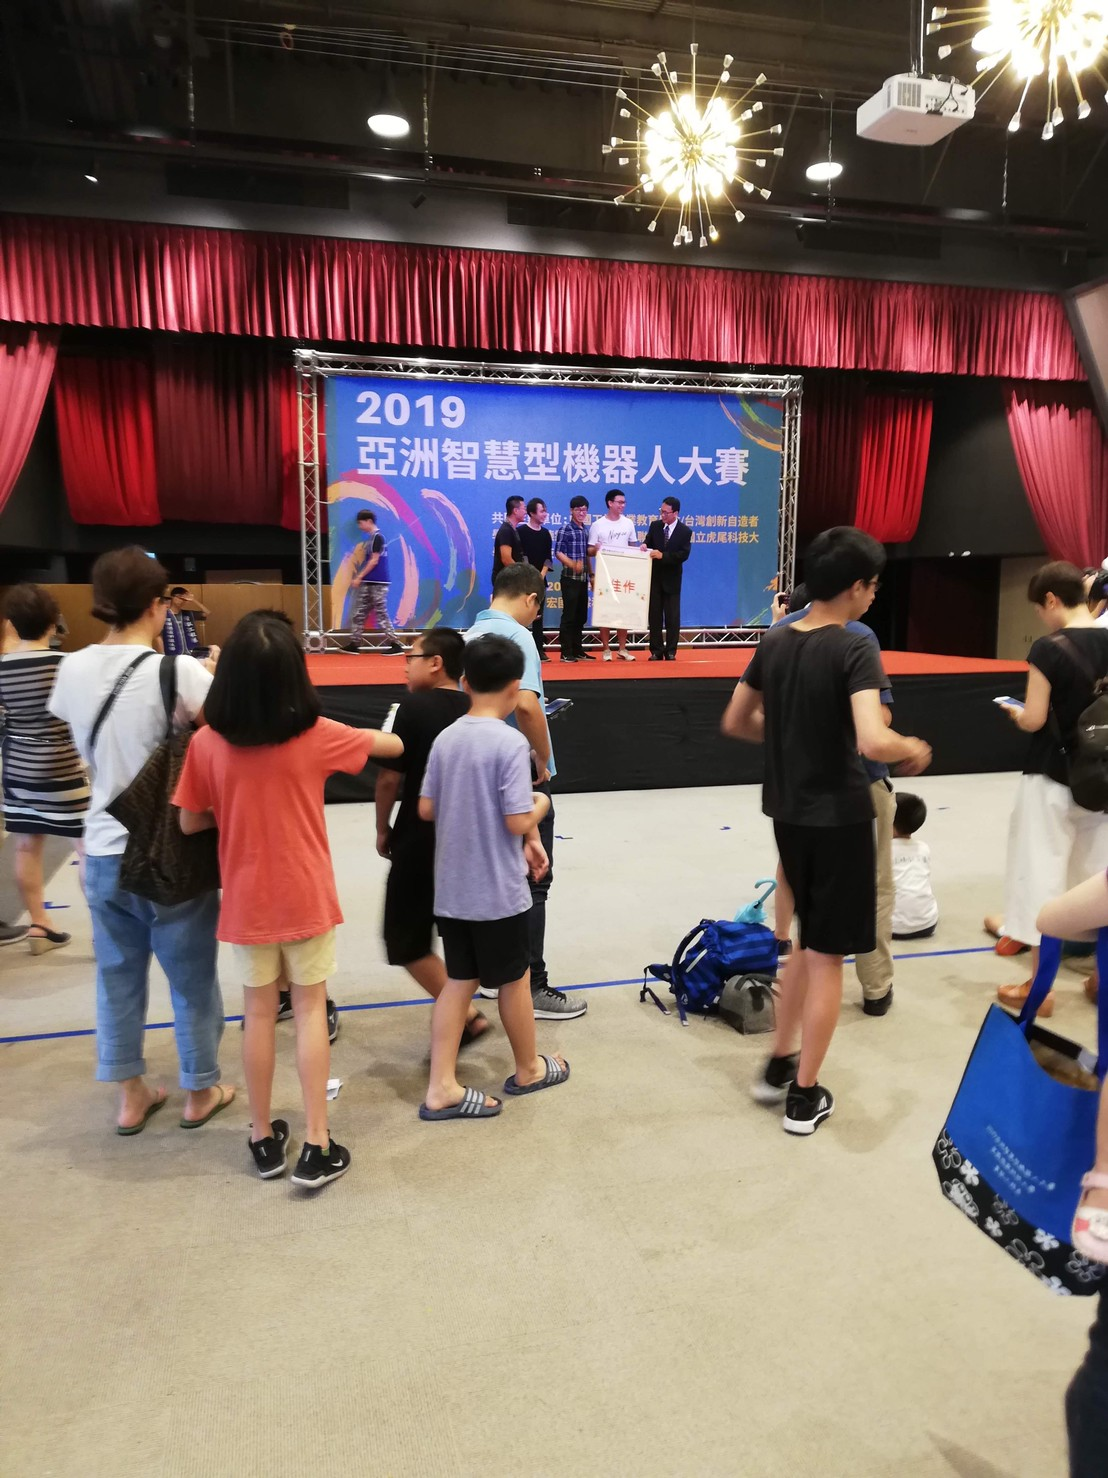people: (62, 540, 236, 1135), (197, 614, 355, 1202), (740, 528, 864, 1152), (440, 643, 562, 1114), (369, 612, 483, 1021), (1019, 540, 1108, 945), (5, 571, 83, 954), (474, 547, 578, 785), (395, 614, 459, 966), (340, 497, 412, 645), (590, 485, 640, 657), (655, 497, 693, 666), (562, 497, 607, 621), (524, 485, 562, 607), (505, 504, 540, 602)
